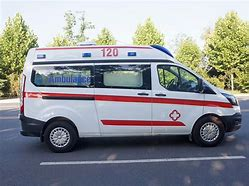specialcar: (18, 40, 241, 156)
